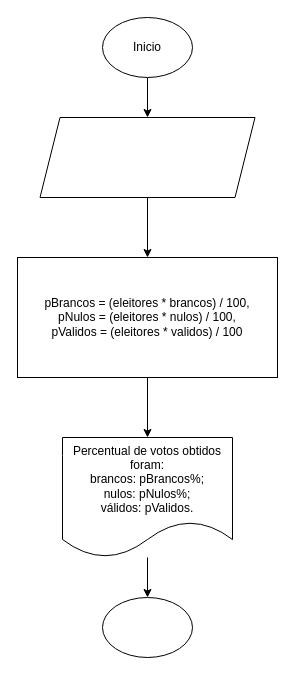
This 295x675 diagram has some shape labels left out. Here are the shapes that lost their labels. From the top down, the centre of each, then its label:
At (147,157): "eleitores, brancos, nulos, validos".
At (147,627): "Fim".
